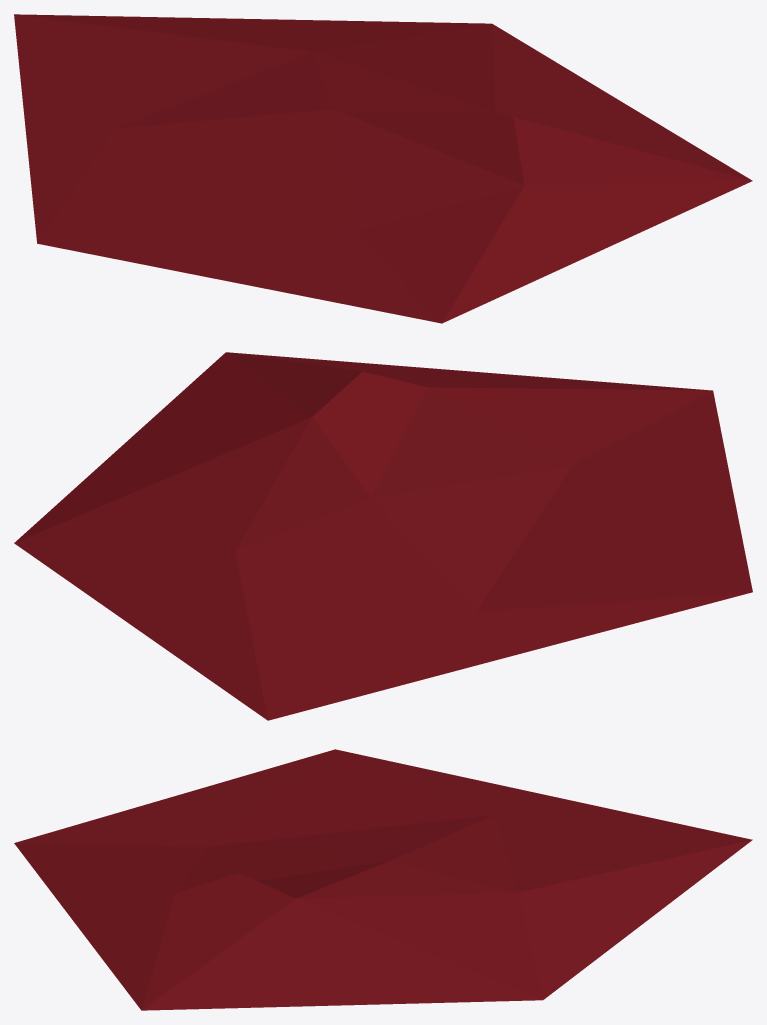
File: Tinta.fbx
The picture shows the model from 3 angles, top to bottom: view 1: azimuth 30°, elevation 25°; view 2: azimuth 150°, elevation 25°; view 3: azimuth 270°, elevation 25°; orthographic projection. The views are drawn at different scales.
Visible parts, largest first — view 1: Icosphere.048; view 2: Icosphere.048; view 3: Icosphere.048.
Boxes of the visible parts, left/top/right/bottom form: Icosphere.048: left=14, top=14, right=752, bottom=323; Icosphere.048: left=14, top=352, right=752, bottom=720; Icosphere.048: left=14, top=749, right=752, bottom=1010.
Size of the model in its own units: 105 by 11.72 by 127.
